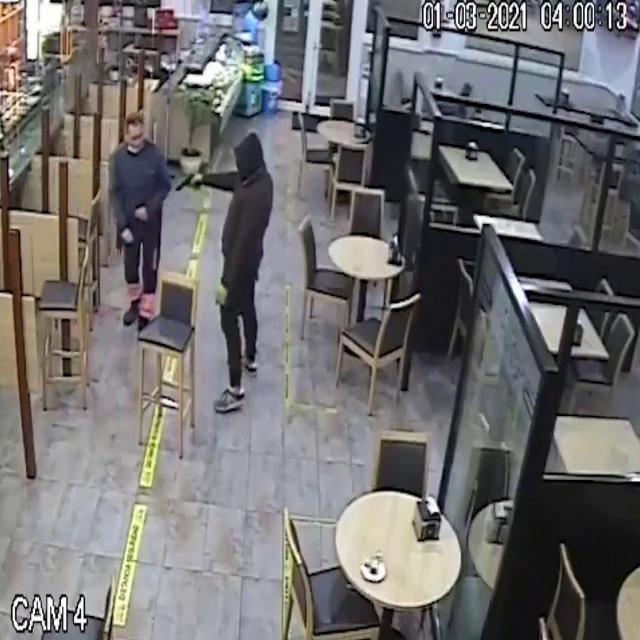weapon: (163, 157, 207, 203)
